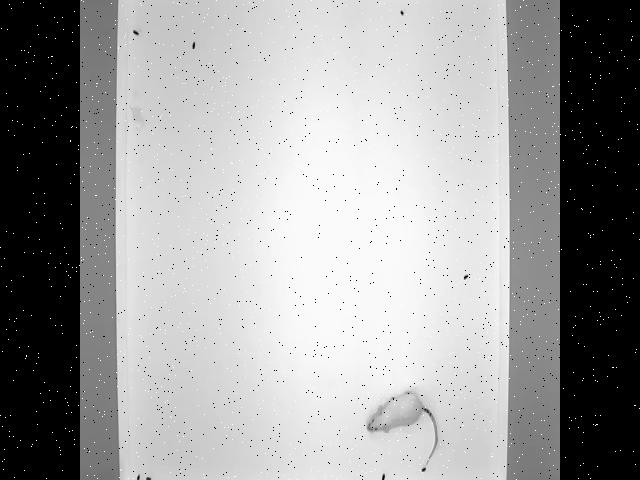Tikus: (363, 386, 442, 472)
